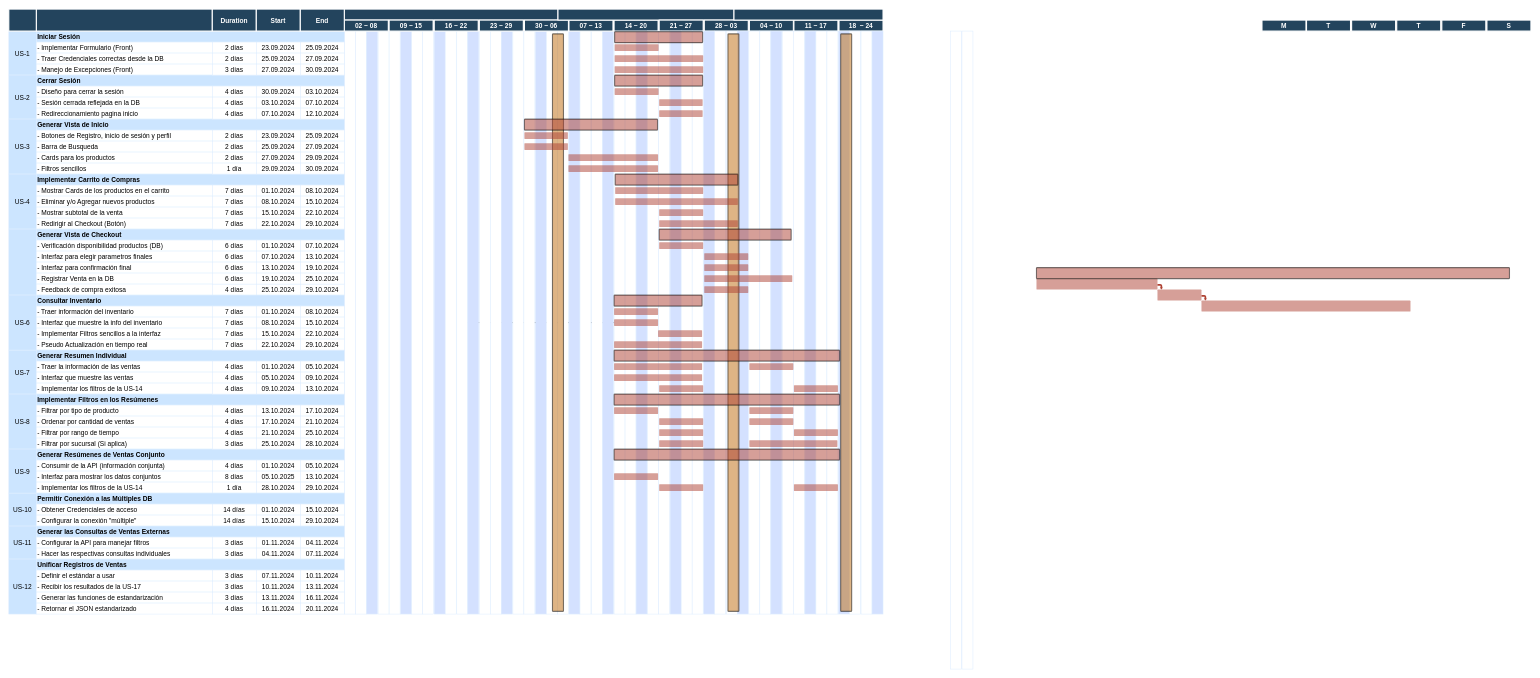
Image size: 1540x678. Some labels were removed from this diagram. The centre of each missing label's shape, as x and y in pixels:
"Noviembre" belongs at point 808,14.
"Octubre" belongs at point 645,14.
"Septiembre" belongs at point 450,14.
"Task Name" belongs at point 124,19.
"US-5" belongs at point 22,262.
"US-ID" belongs at point 22,19.
